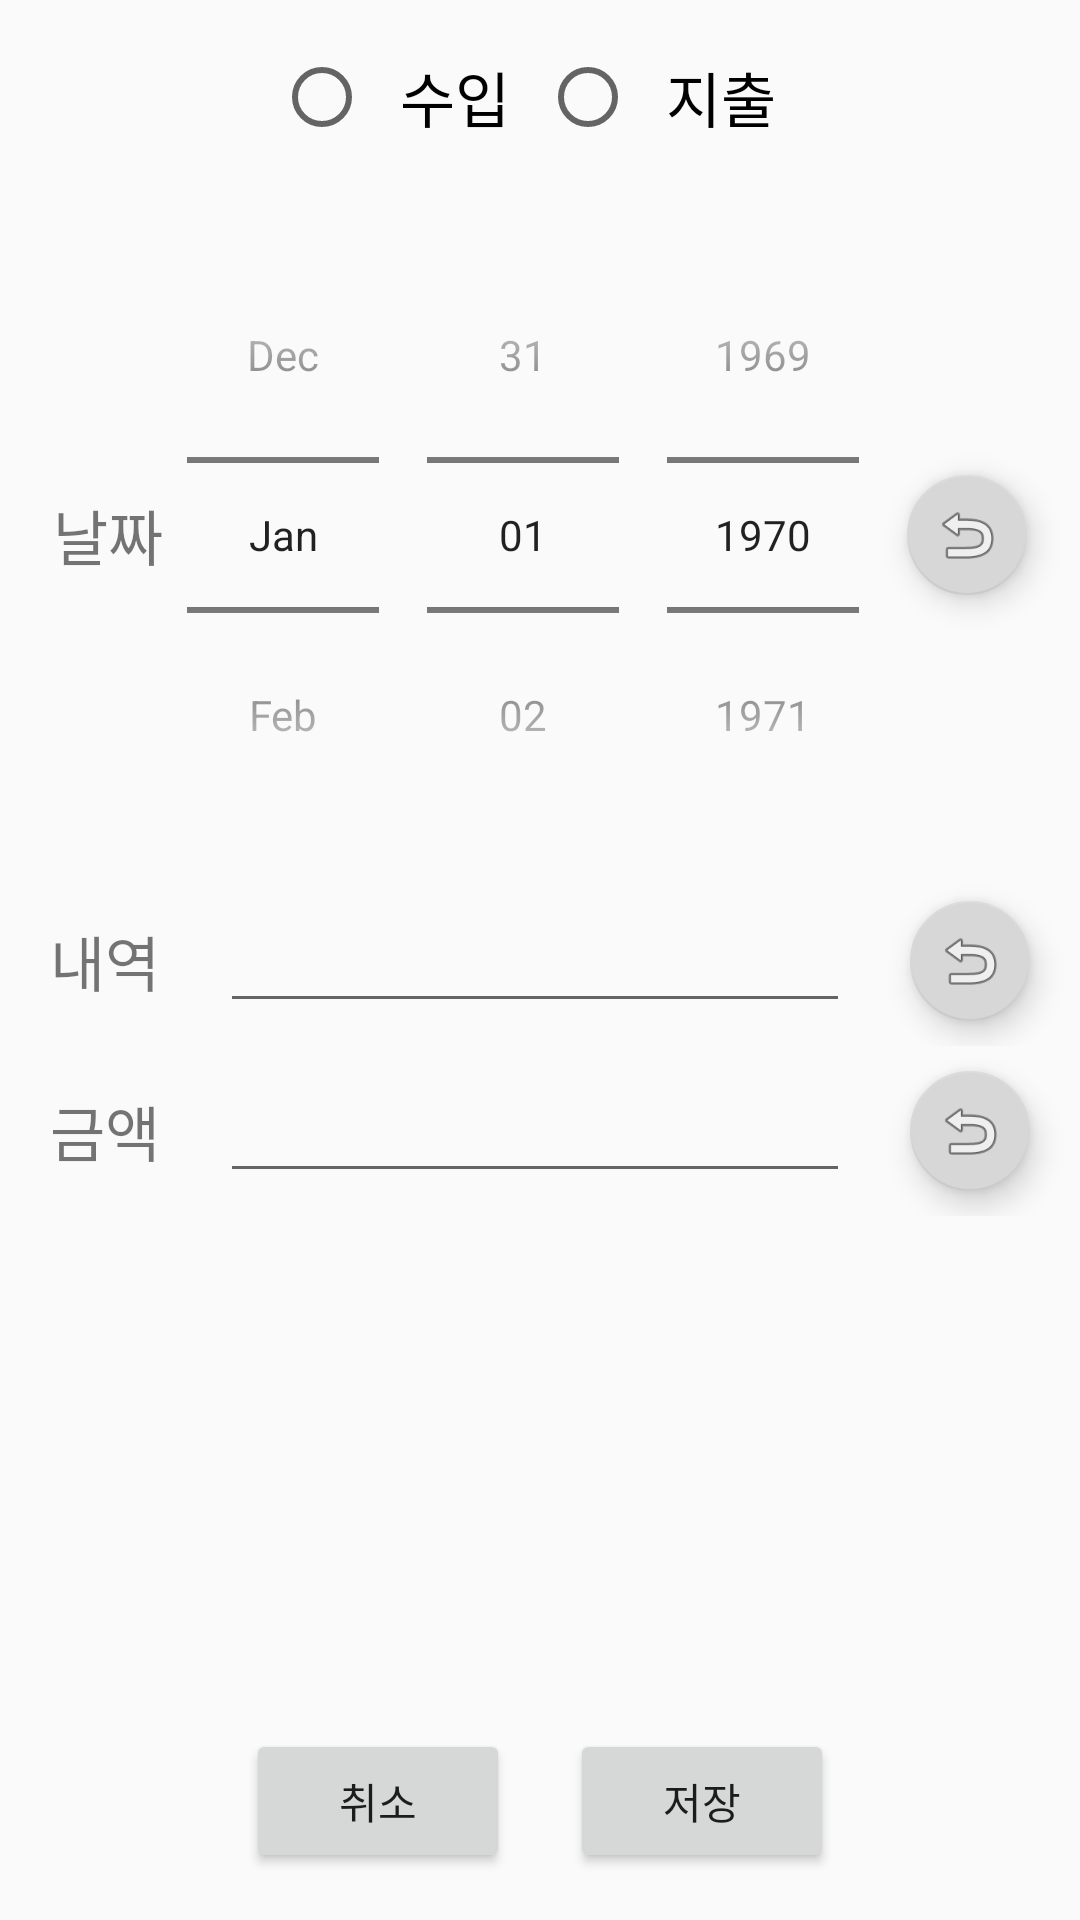

Named icons in this screenshot (1080w x 1920h) and their bounding boxes, region(x1, y1, x2, y2):
revert: region(907, 476, 1027, 595), region(910, 903, 1030, 1021), region(910, 1073, 1030, 1191)
